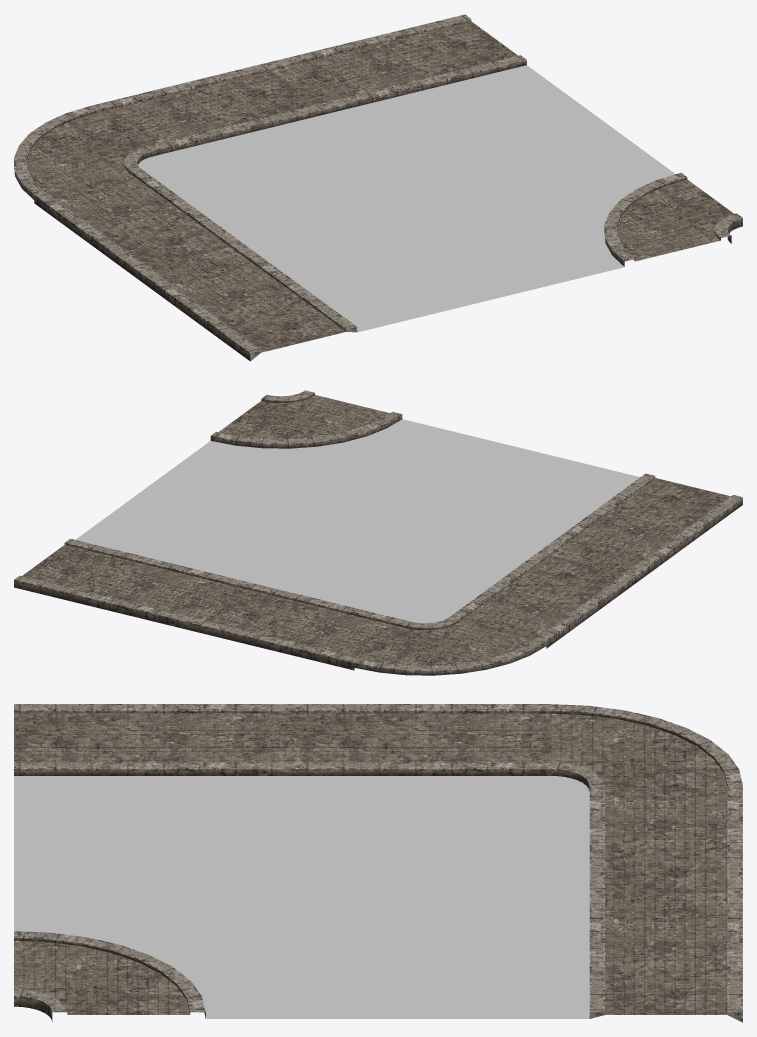
Rendered from Road10B.fbx.
3 renders of one model, top to bottom at view 1: azimuth 30°, elevation 25°; view 2: azimuth 150°, elevation 25°; view 3: azimuth 270°, elevation 25°, orthographic. The views are drawn at different scales.
Visible parts, largest first — view 1: polySurface66; view 2: polySurface66; view 3: polySurface66.
Boxes of the visible parts, left/top/right/bottom form: polySurface66: left=14, top=14, right=742, bottom=361; polySurface66: left=14, top=390, right=742, bottom=675; polySurface66: left=14, top=704, right=742, bottom=1022.
Bounding box in the file's own units: 9.5 × 0.1527 × 9.5.
